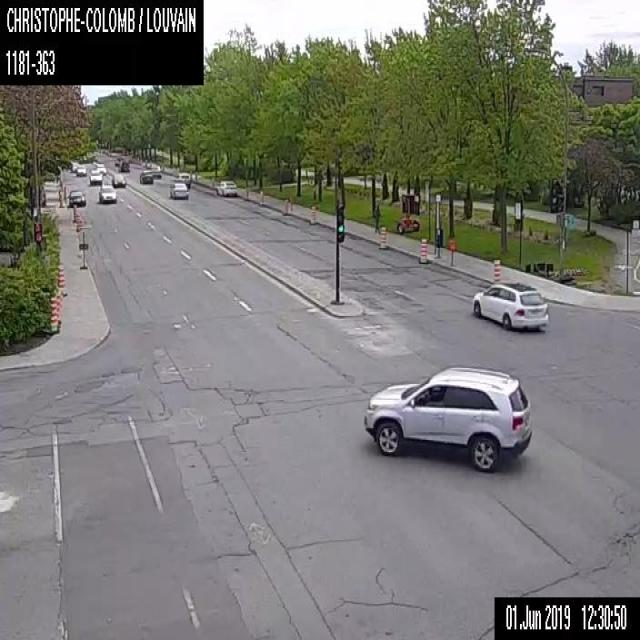construction: (396, 192, 419, 232), (79, 228, 87, 270), (57, 265, 65, 296), (49, 297, 56, 332), (54, 288, 60, 327), (492, 257, 501, 283), (419, 237, 426, 263), (378, 225, 385, 248), (58, 191, 64, 206), (310, 205, 315, 223), (72, 204, 77, 221), (75, 212, 79, 231), (259, 191, 263, 204), (283, 200, 287, 213)
pedestrian: (372, 202, 379, 234)
vehicle: (363, 365, 532, 471), (471, 280, 549, 328), (97, 185, 116, 202), (168, 181, 188, 197), (216, 178, 236, 194), (68, 188, 85, 205), (173, 172, 190, 186), (88, 169, 102, 184), (111, 173, 125, 188), (138, 170, 152, 182), (118, 159, 130, 172), (150, 163, 160, 177), (94, 162, 105, 174), (76, 164, 86, 176), (70, 160, 78, 172), (115, 156, 124, 166)
